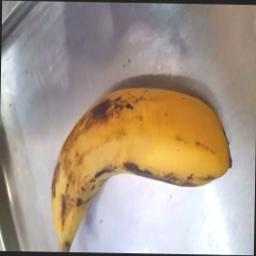Banana Overripe: (50, 79, 256, 246), (100, 41, 238, 219)
